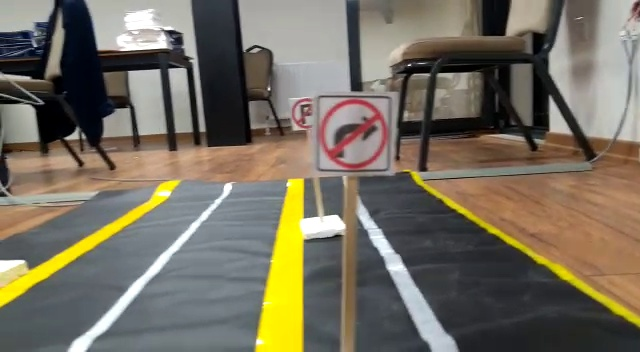park_yapilmaz: (289, 96, 317, 127)
saga_donulmez: (318, 93, 395, 175)
